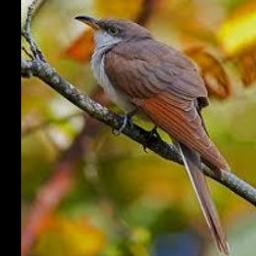Cuckoo: (75, 14, 231, 255)
